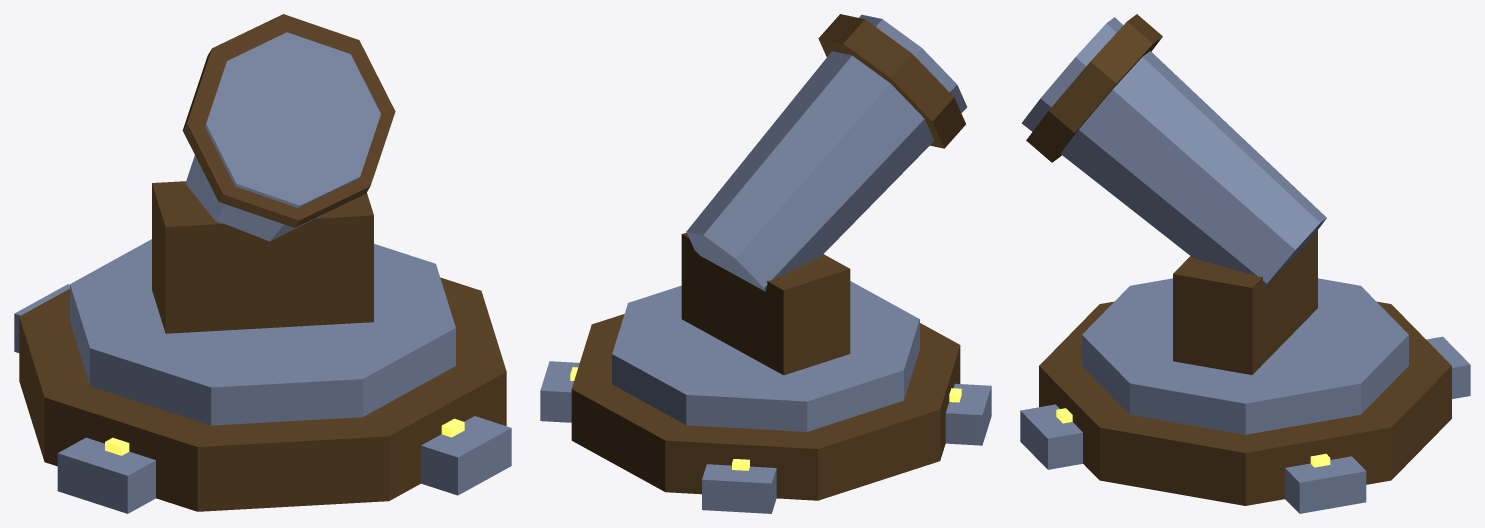
The model's file is lobber.glb.
3 views of the same model, side by side, from view 1: azimuth 30°, elevation 25°; view 2: azimuth 150°, elevation 25°; view 3: azimuth 270°, elevation 25° (orthographic). The views are drawn at different scales.
Visible parts, largest first — view 1: Lobber; view 2: Lobber; view 3: Lobber.
Part boxes in pixels (box(x1,y1,x2,y2)): Lobber: box(14, 14, 511, 513); Lobber: box(540, 14, 991, 513); Lobber: box(1020, 14, 1470, 513).
Size of the model in its own units: 2.62 by 2.42 by 2.62.
